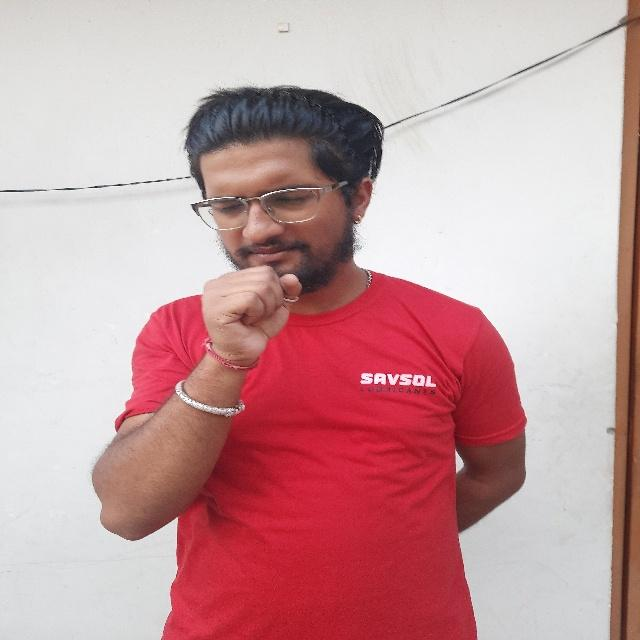Fist Mouth: (176, 80, 360, 381)
